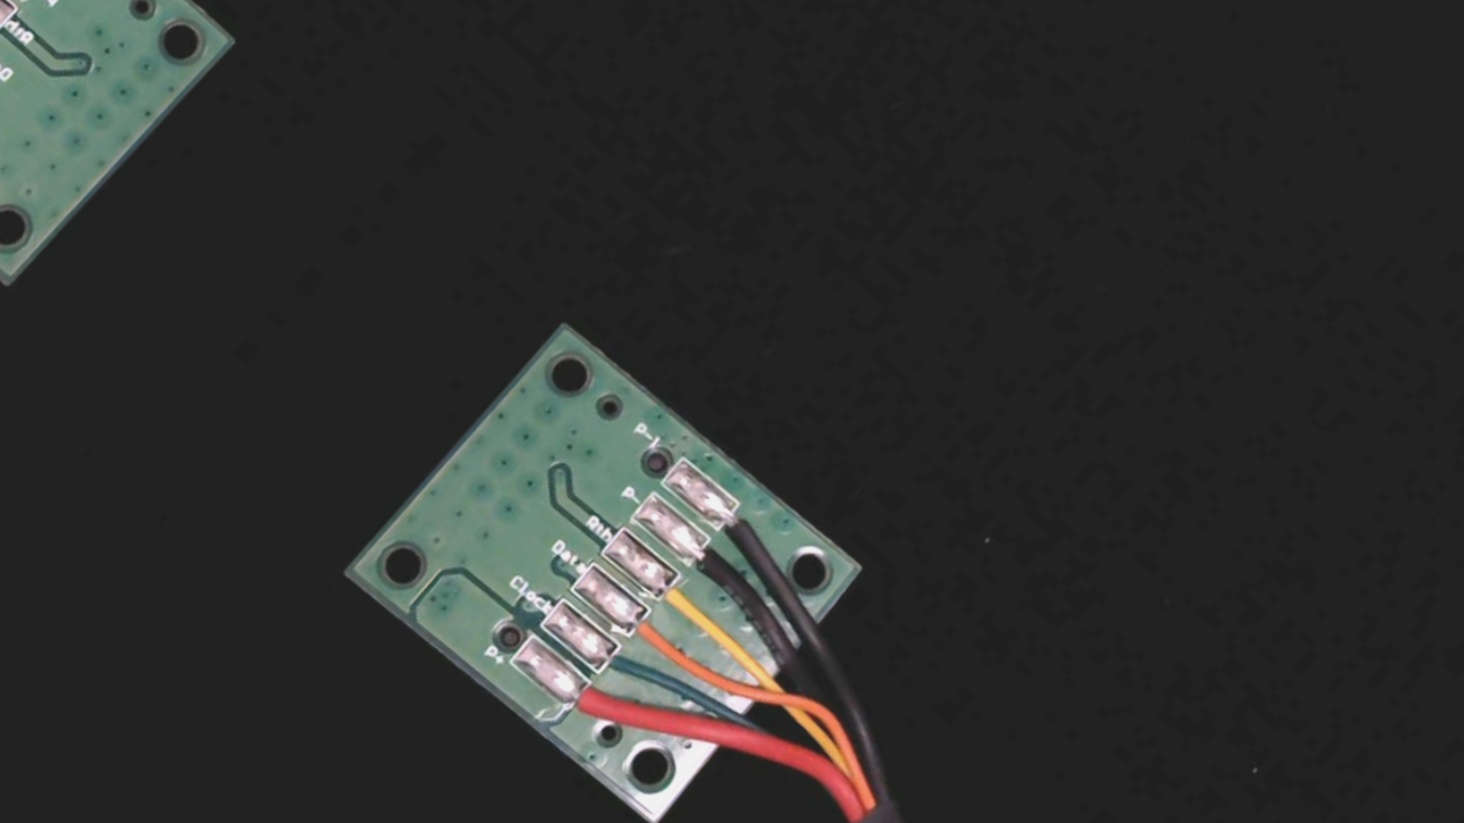Black: (668, 525, 761, 613)
Black1: (702, 490, 788, 573)
Green: (579, 629, 657, 702)
Orange: (610, 595, 694, 674)
Red: (546, 659, 637, 747)
Yellow: (638, 562, 733, 651)
